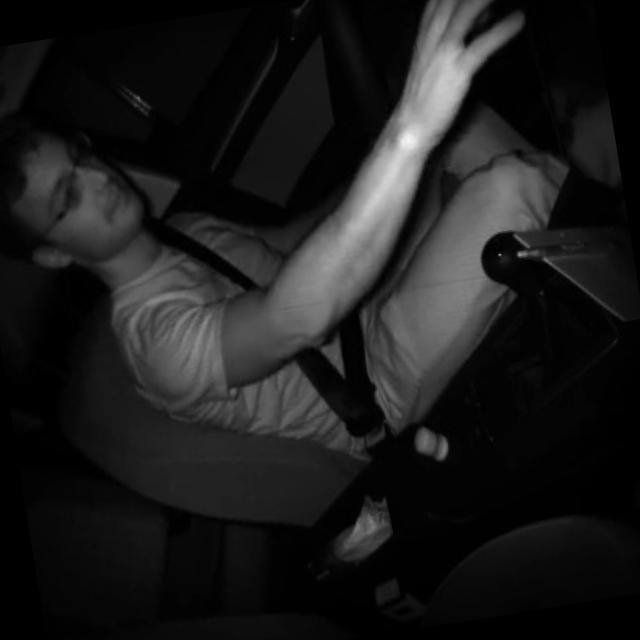pen: (514, 232, 626, 266)
